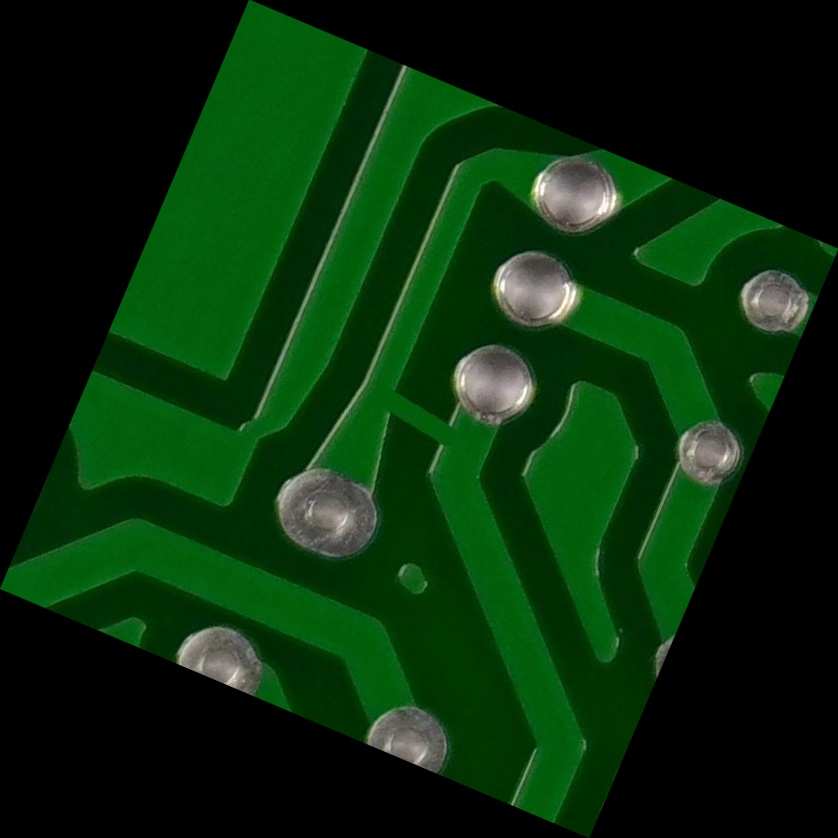short: (328, 338, 511, 501)
